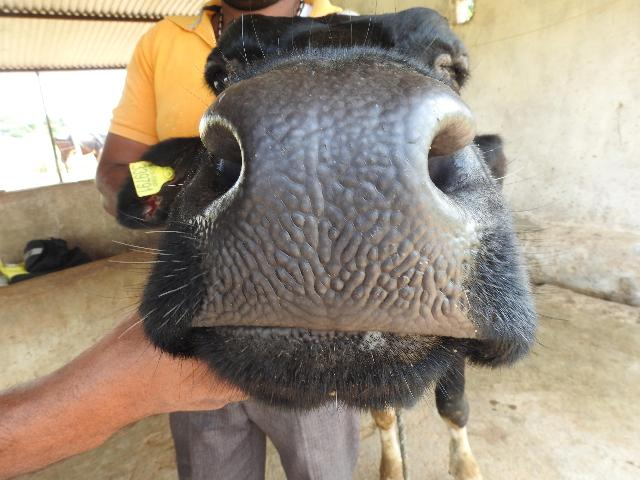Muzzle: (247, 84, 436, 322)
